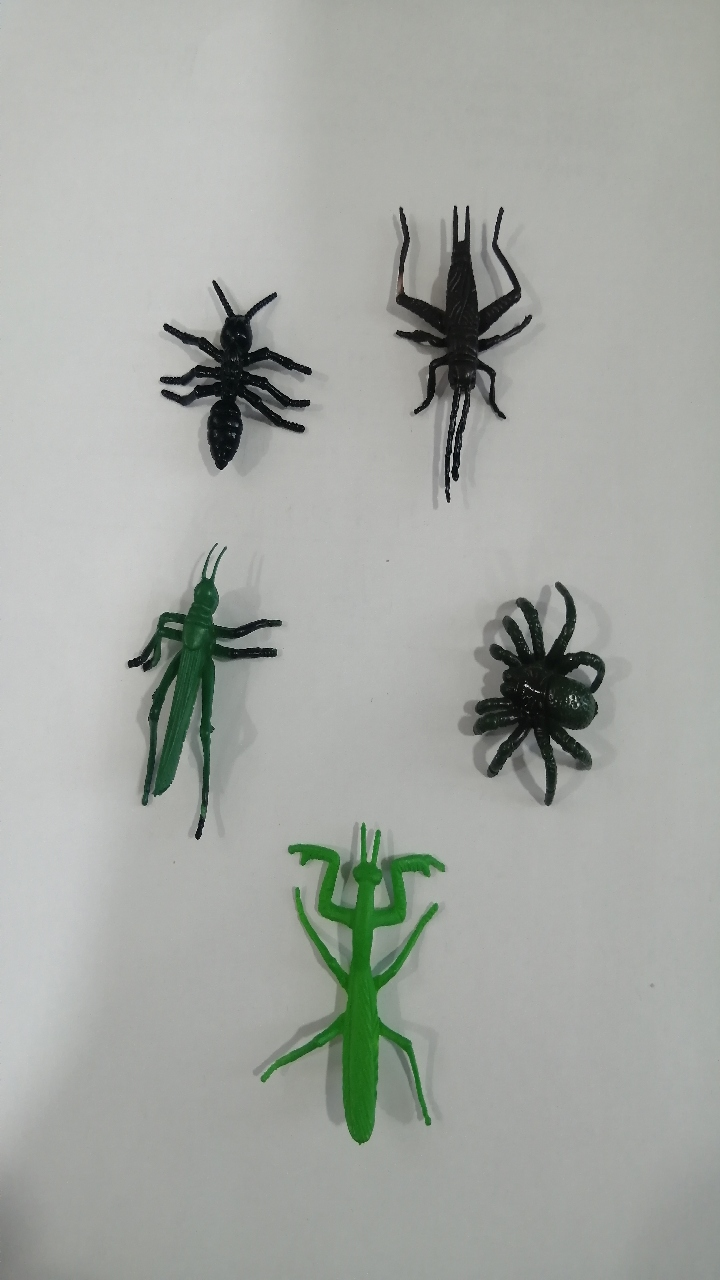intruso: (358, 154, 564, 537), (258, 819, 474, 1163), (106, 248, 361, 502), (100, 531, 283, 855), (441, 551, 624, 820)
